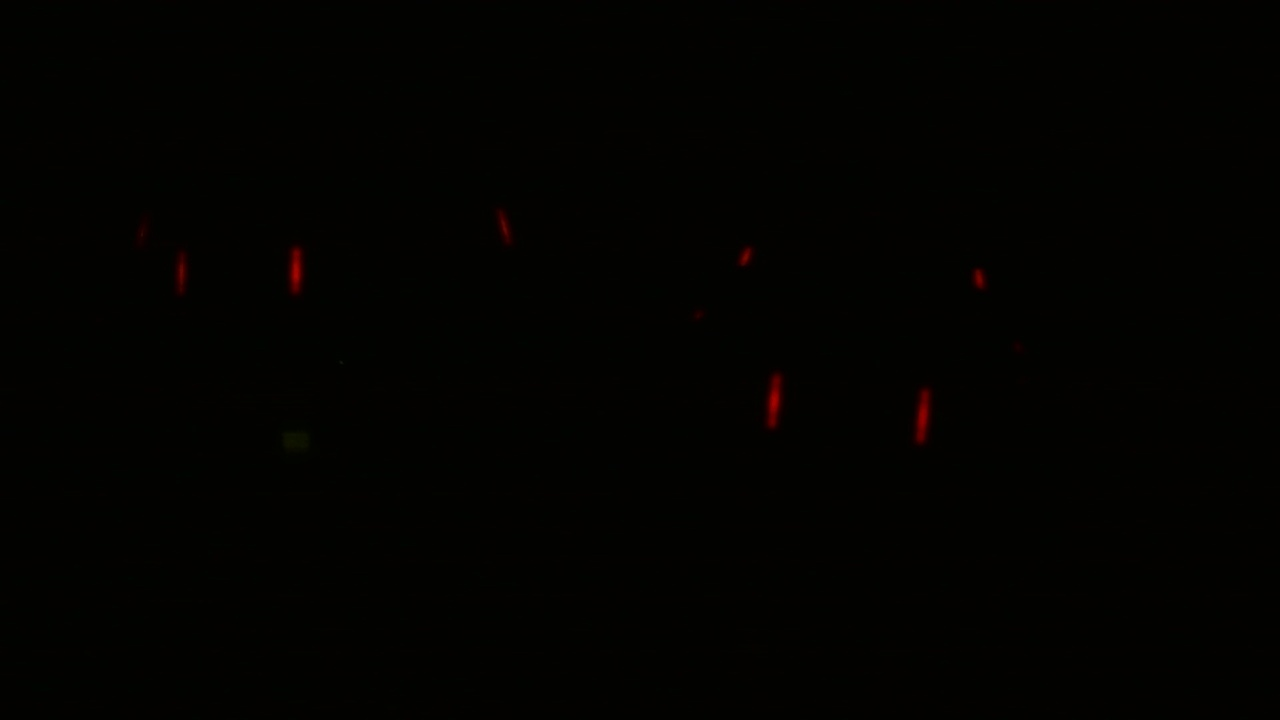pair1: (767, 374, 933, 461), (168, 229, 313, 307)
